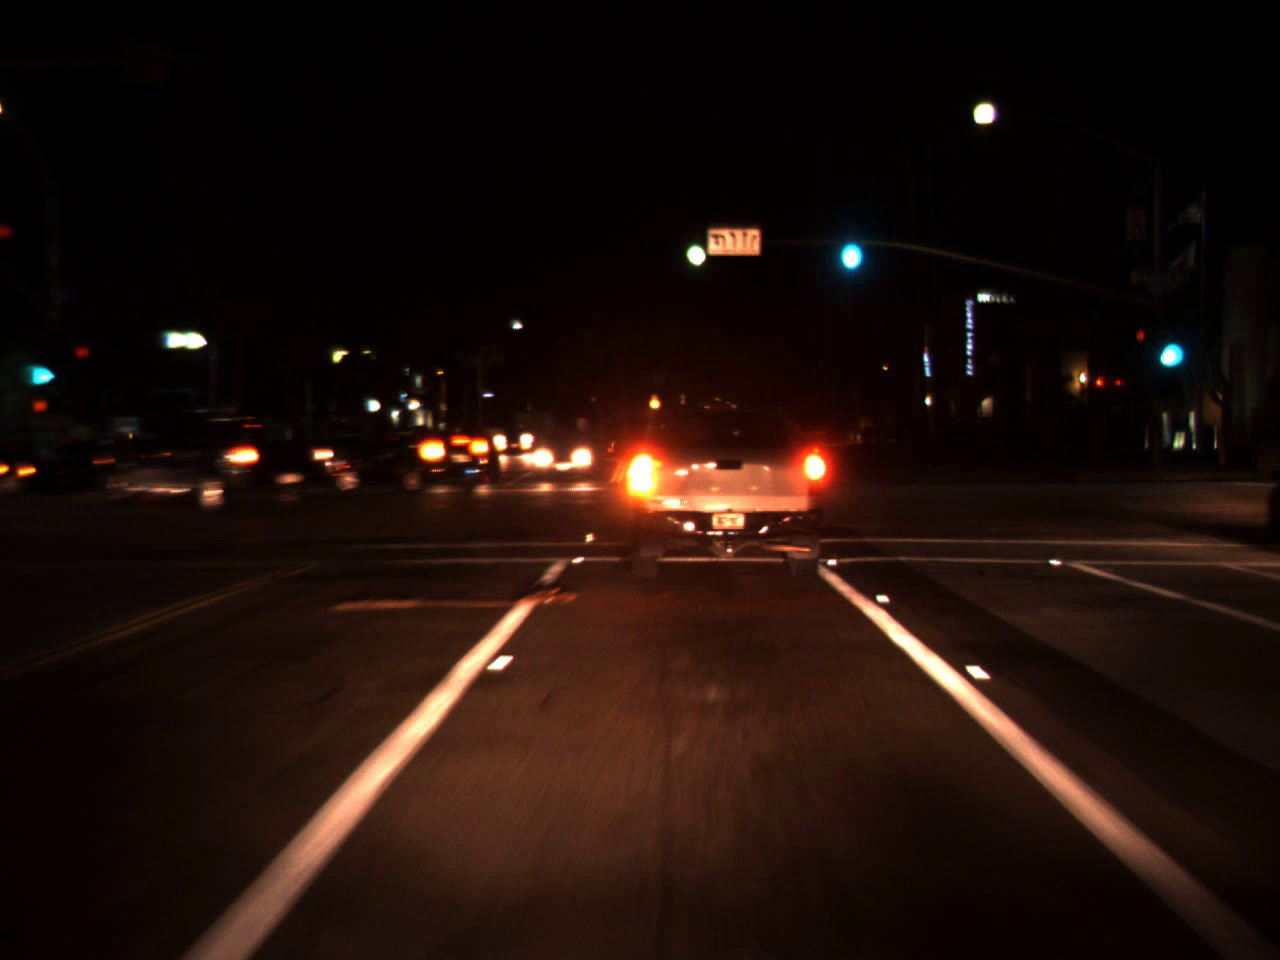go: (832, 210, 866, 279), (1153, 313, 1187, 376), (679, 219, 709, 273), (26, 344, 54, 392)
